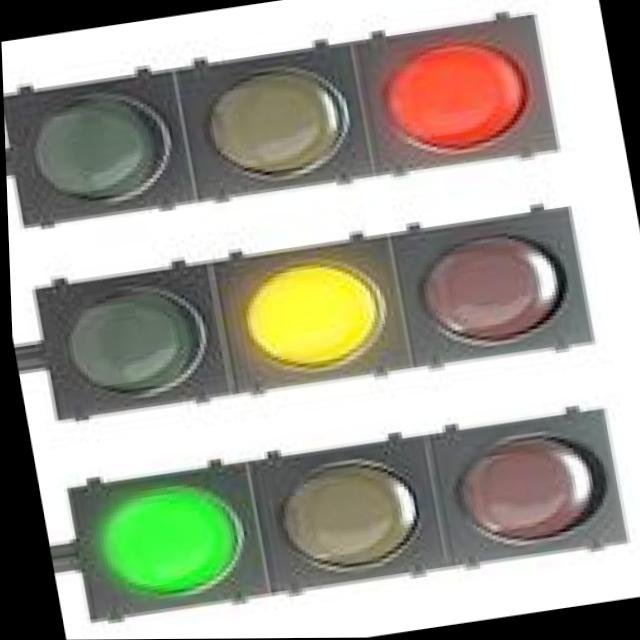green_light: (28, 389, 258, 640)
red_light: (326, 0, 558, 231)
yellow_light: (184, 207, 413, 428)
